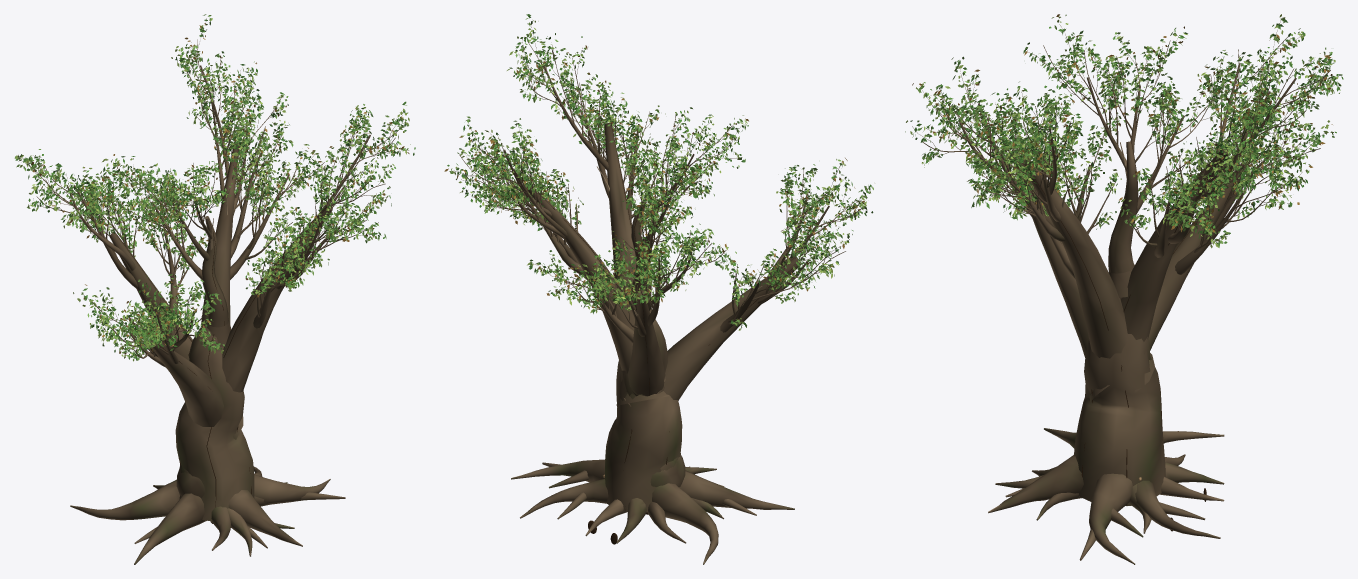
The model's file is ancient_tree_08_lod1.glb.
3 views of the same model, side by side, from view 1: azimuth 30°, elevation 25°; view 2: azimuth 150°, elevation 25°; view 3: azimuth 270°, elevation 25° (orthographic). The views are drawn at different scales.
Visible parts, largest first — view 1: AncientTreeWood_LOD1, AncientLeaves_LOD1, FineBranches_LOD1, DirectedBarkGrooves_LOD1; view 2: AncientTreeWood_LOD1, AncientLeaves_LOD1, FineBranches_LOD1; view 3: AncientTreeWood_LOD1, AncientLeaves_LOD1, FineBranches_LOD1, DirectedBarkGrooves_LOD1.
Part boxes in pixels (left/top/right/bottom): AncientTreeWood_LOD1: left=28, top=39, right=403, bottom=564; AncientLeaves_LOD1: left=14, top=14, right=415, bottom=361; FineBranches_LOD1: left=19, top=18, right=408, bottom=357; DirectedBarkGrooves_LOD1: left=115, top=149, right=326, bottom=507; AncientTreeWood_LOD1: left=459, top=40, right=861, bottom=564; AncientLeaves_LOD1: left=444, top=14, right=873, bottom=330; FineBranches_LOD1: left=454, top=22, right=867, bottom=323; AncientTreeWood_LOD1: left=922, top=36, right=1330, bottom=564; AncientLeaves_LOD1: left=905, top=14, right=1343, bottom=248; FineBranches_LOD1: left=912, top=19, right=1334, bottom=245; DirectedBarkGrooves_LOD1: left=1019, top=141, right=1241, bottom=505.
Bounding box in the file's own units: 19.93 × 25.51 × 19.72.
